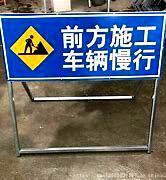sign: (1, 13, 161, 77)
